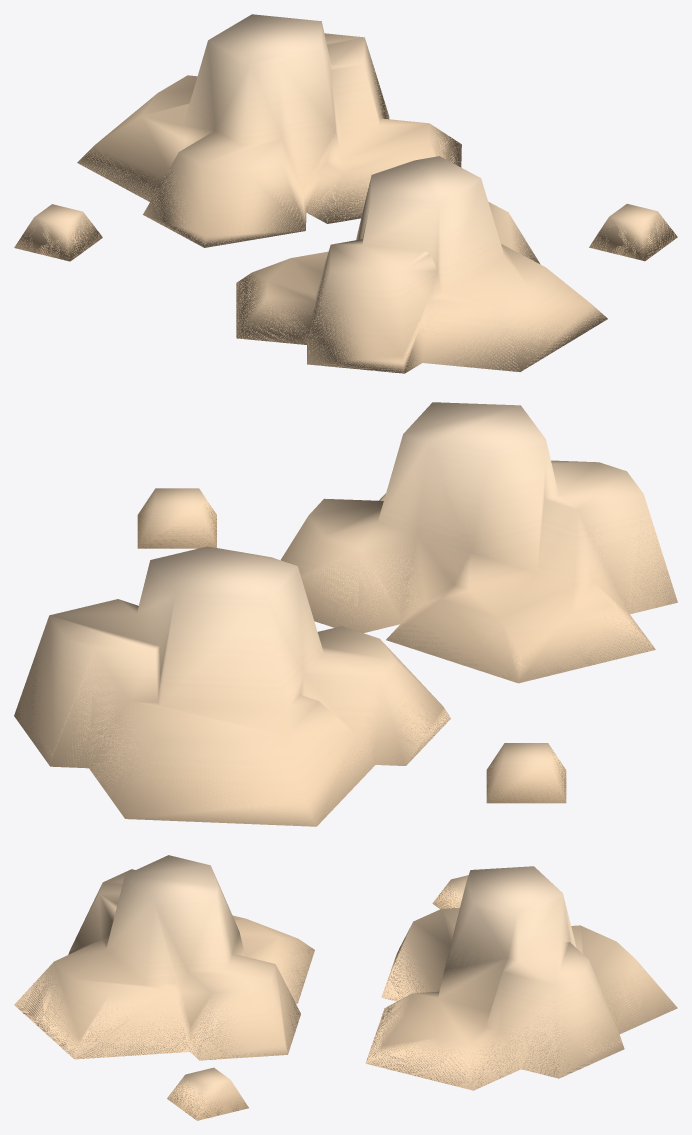
The model's file is desert_hills.glb.
The picture shows the model from 3 angles, top to bottom: view 1: azimuth 30°, elevation 25°; view 2: azimuth 150°, elevation 25°; view 3: azimuth 270°, elevation 25°; orthographic projection. The views are drawn at different scales.
Visible parts, largest first — view 1: stone-rocks; view 2: stone-rocks; view 3: stone-rocks.
Part boxes in pixels (box(x1,y1,x2,y2)): stone-rocks: box(14, 14, 677, 373); stone-rocks: box(14, 402, 677, 826); stone-rocks: box(14, 855, 677, 1120).
Bounding box in the file's own units: 0.8173 × 0.2061 × 0.9967.
1 material, 1 textured.
